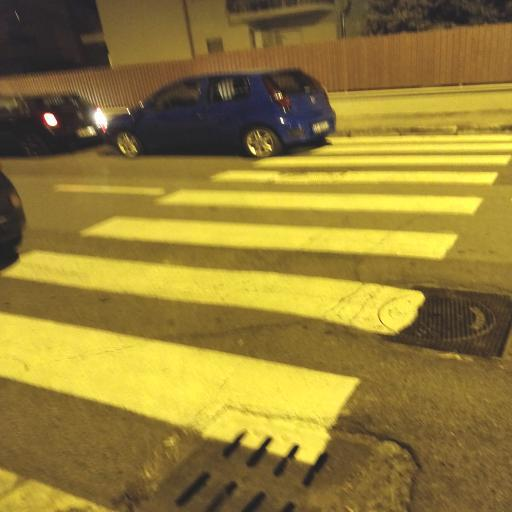crosswalk: (71, 186, 488, 264)
